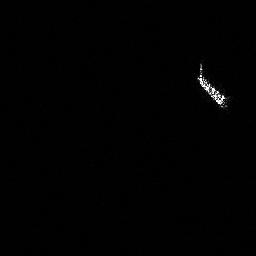ship: (198, 75, 225, 105)
